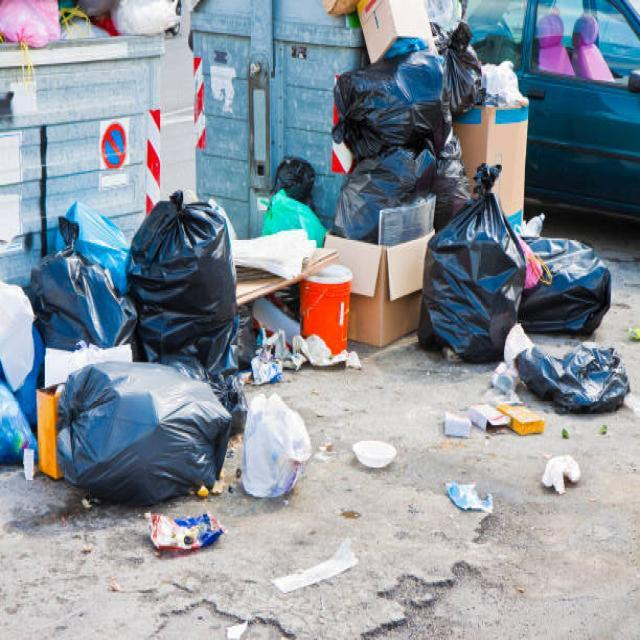garbage: (52, 353, 235, 505), (127, 184, 246, 364), (423, 164, 525, 360), (32, 195, 134, 352), (509, 334, 640, 429), (530, 213, 618, 342), (328, 53, 439, 152), (344, 144, 436, 246), (239, 383, 313, 508), (246, 318, 364, 385), (437, 22, 497, 113), (438, 391, 546, 439), (144, 504, 233, 561), (0, 0, 70, 69), (266, 183, 326, 262), (0, 270, 37, 394), (113, 0, 194, 47), (344, 421, 402, 476), (441, 468, 506, 517), (265, 149, 319, 204), (483, 48, 522, 112), (538, 452, 586, 496)
